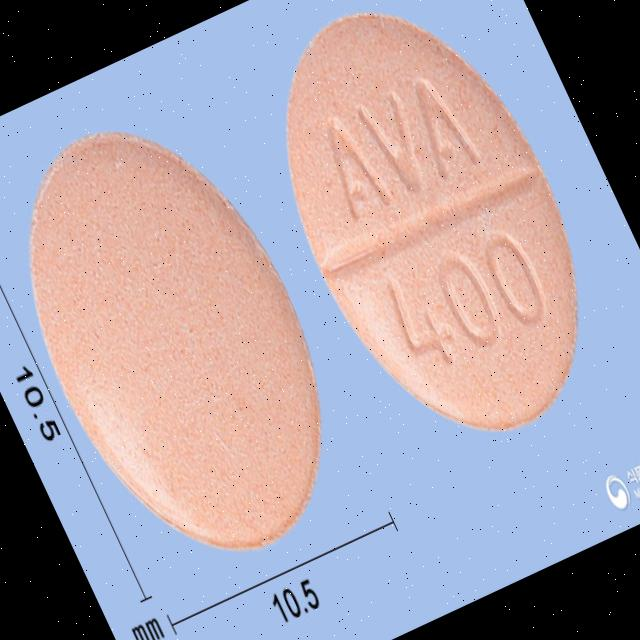Aclova: (224, 0, 640, 481), (0, 85, 382, 595)
